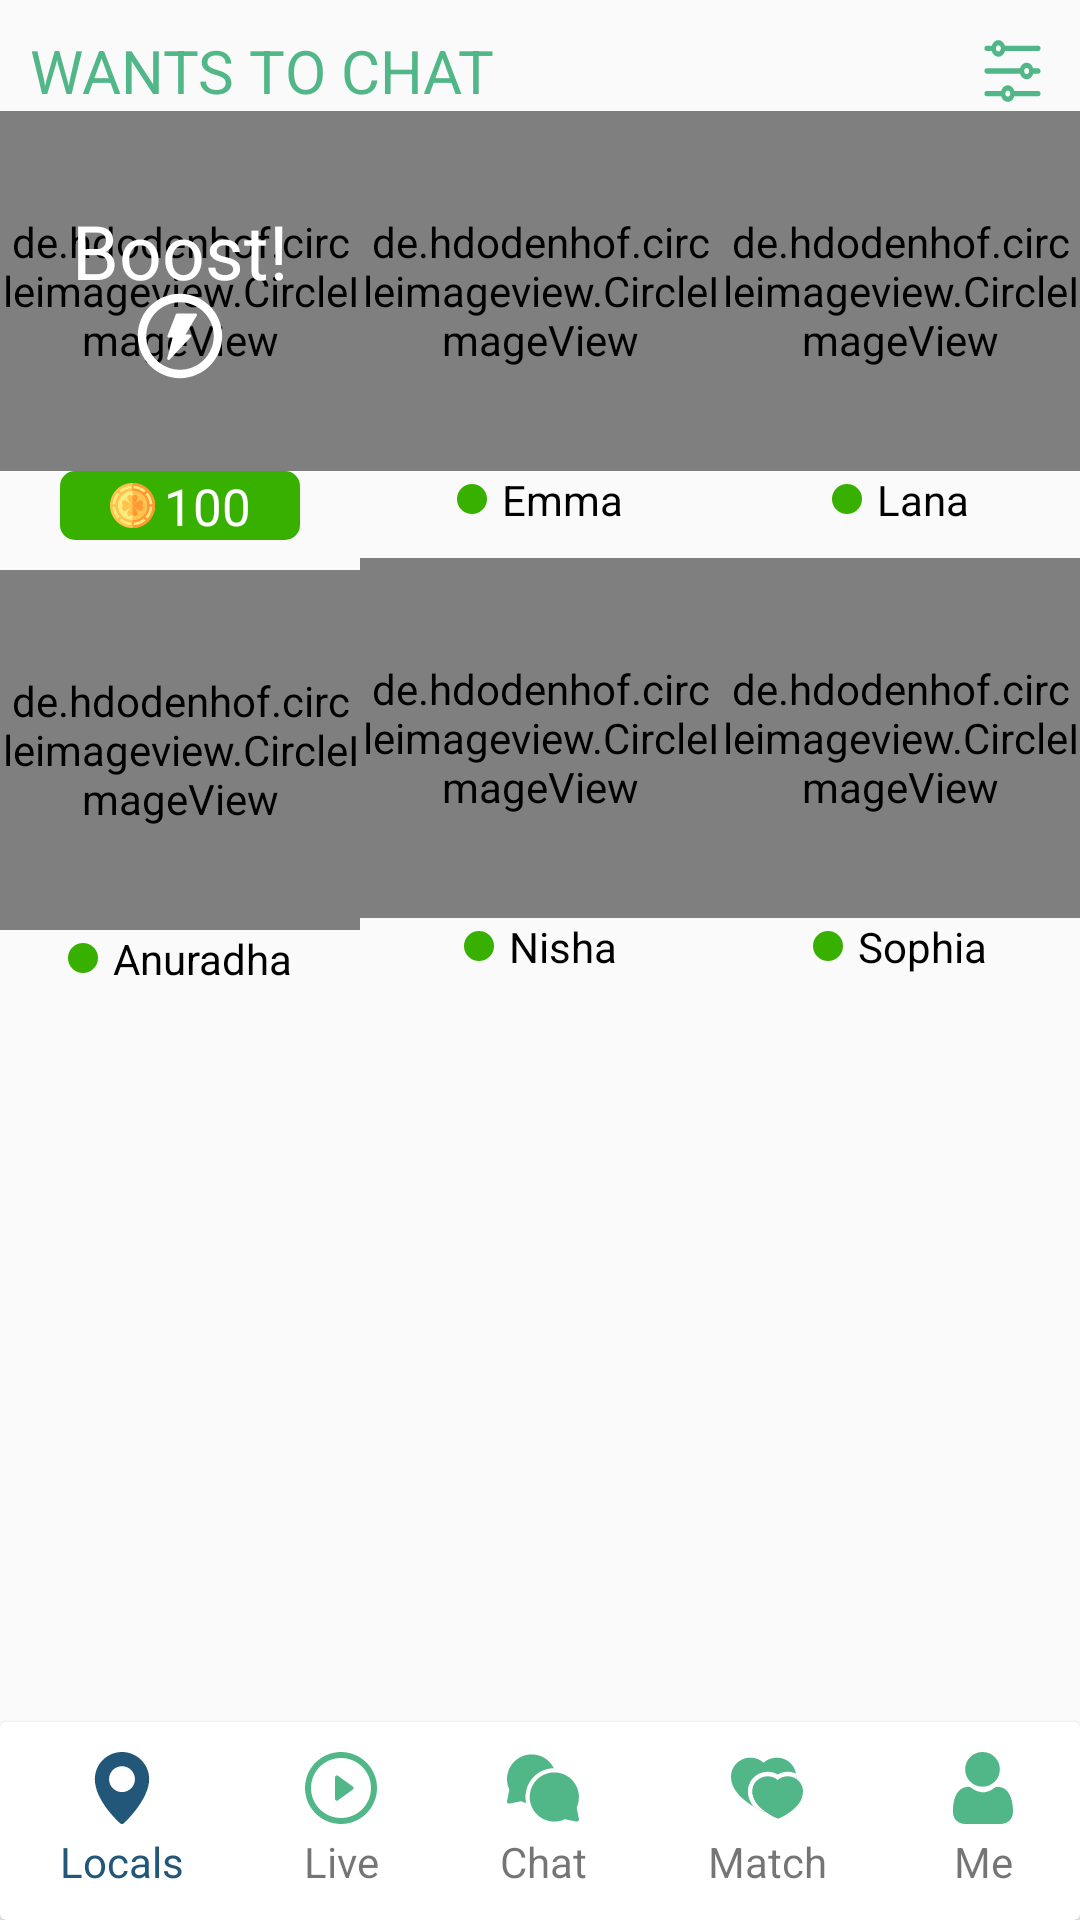

Screen size 1080*1920. Icon name, then its box in pixels as Rect(x1, y1, x2, y2):
filter: Rect(984, 40, 1041, 102)
flash: Rect(135, 291, 225, 379)
